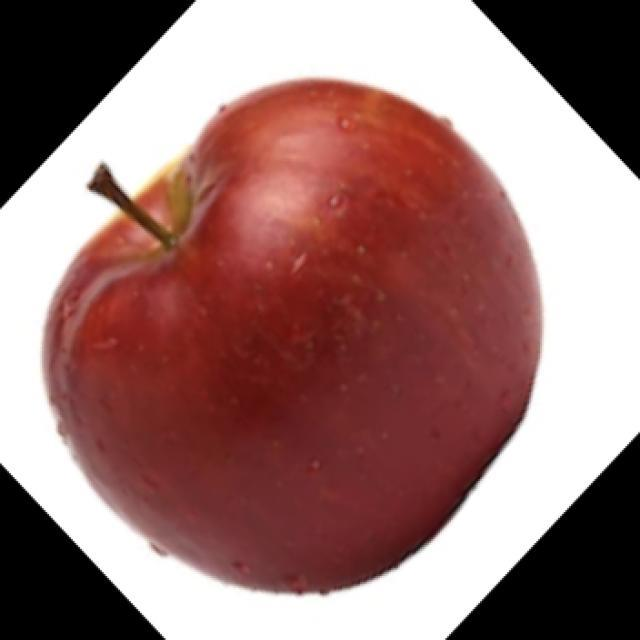Fresh Apple: (40, 75, 552, 600)
